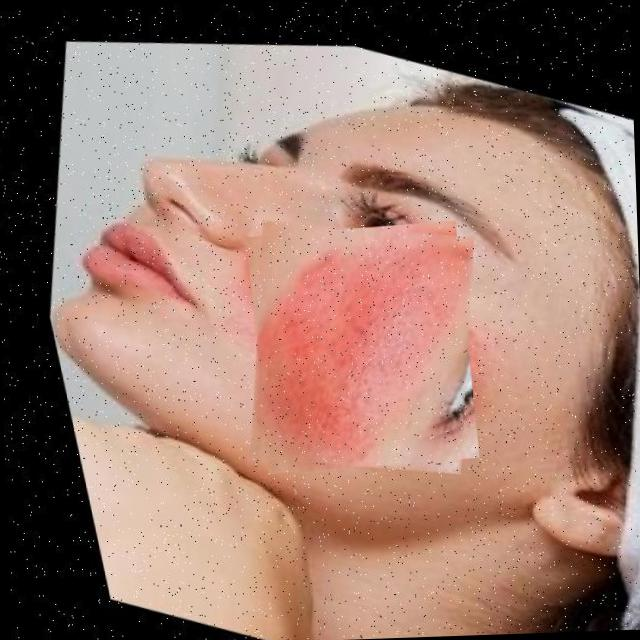redness: (248, 232, 469, 462)
